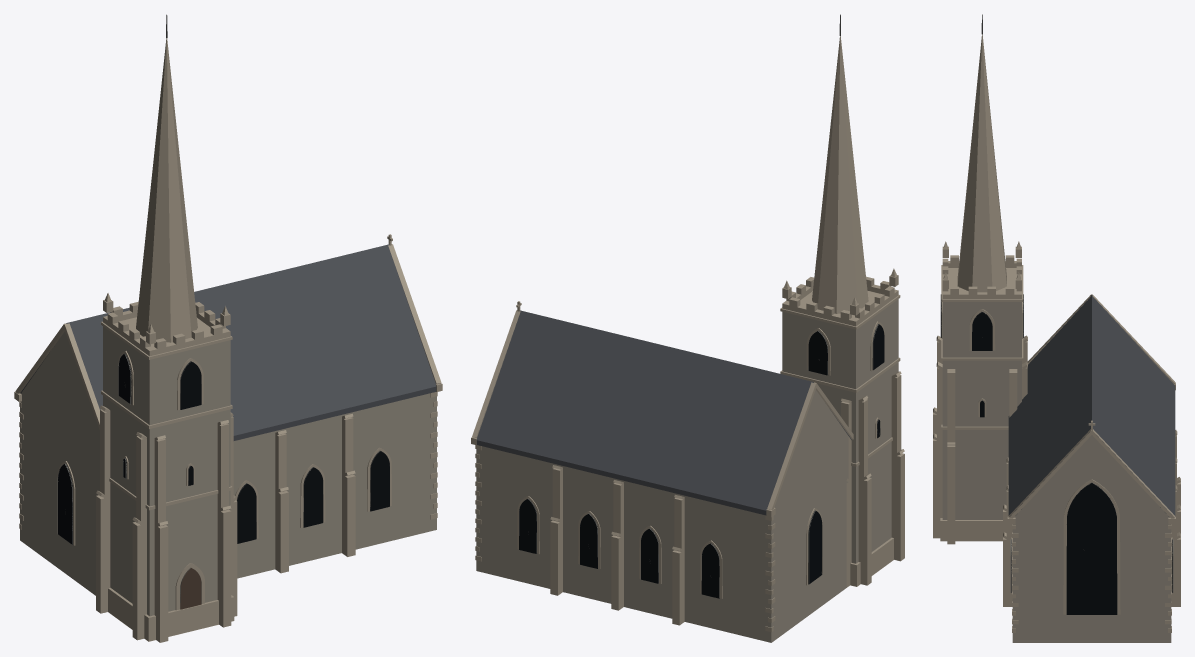
File: context.church.sco_free.glb
3 views of the same model, side by side, from view 1: azimuth 30°, elevation 25°; view 2: azimuth 150°, elevation 25°; view 3: azimuth 270°, elevation 25° (orthographic). The views are drawn at different scales.
Parts seen in each view (by area): view 1: main__stone_988, main__stone_a98, main__clad_455, main__glass_dark, main__timber_543, main__stone_776; view 2: main__stone_988, main__clad_455, main__stone_a98, main__glass_dark, main__stone_776; view 3: main__stone_988, main__clad_455, main__stone_a98, main__glass_dark.
Part boxes in pixels (x1=…): main__stone_988: x1=20, y1=326, x2=436, y2=616; main__stone_a98: x1=14, y1=38, x2=442, y2=642; main__clad_455: x1=20, y1=244, x2=436, y2=440; main__glass_dark: x1=58, y1=354, x2=389, y2=544; main__timber_543: x1=180, y1=568, x2=201, y2=609; main__stone_776: x1=57, y1=354, x2=389, y2=603; main__stone_988: x1=476, y1=299, x2=898, y2=642; main__clad_455: x1=476, y1=310, x2=851, y2=515; main__stone_a98: x1=471, y1=36, x2=904, y2=632; main__glass_dark: x1=519, y1=324, x2=884, y2=598; main__stone_776: x1=519, y1=324, x2=884, y2=598; main__stone_988: x1=942, y1=302, x2=1171, y2=642; main__clad_455: x1=1008, y1=295, x2=1175, y2=517; main__stone_a98: x1=933, y1=34, x2=1180, y2=632; main__glass_dark: x1=941, y1=294, x2=1172, y2=614.
Bounding box in the file's own units: 21.07 × 35.41 × 15.6.
